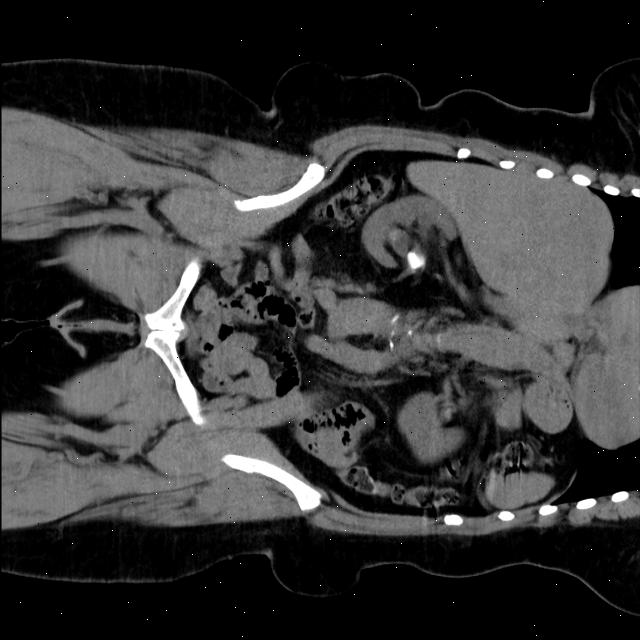kidneystone: (406, 252, 424, 270)
